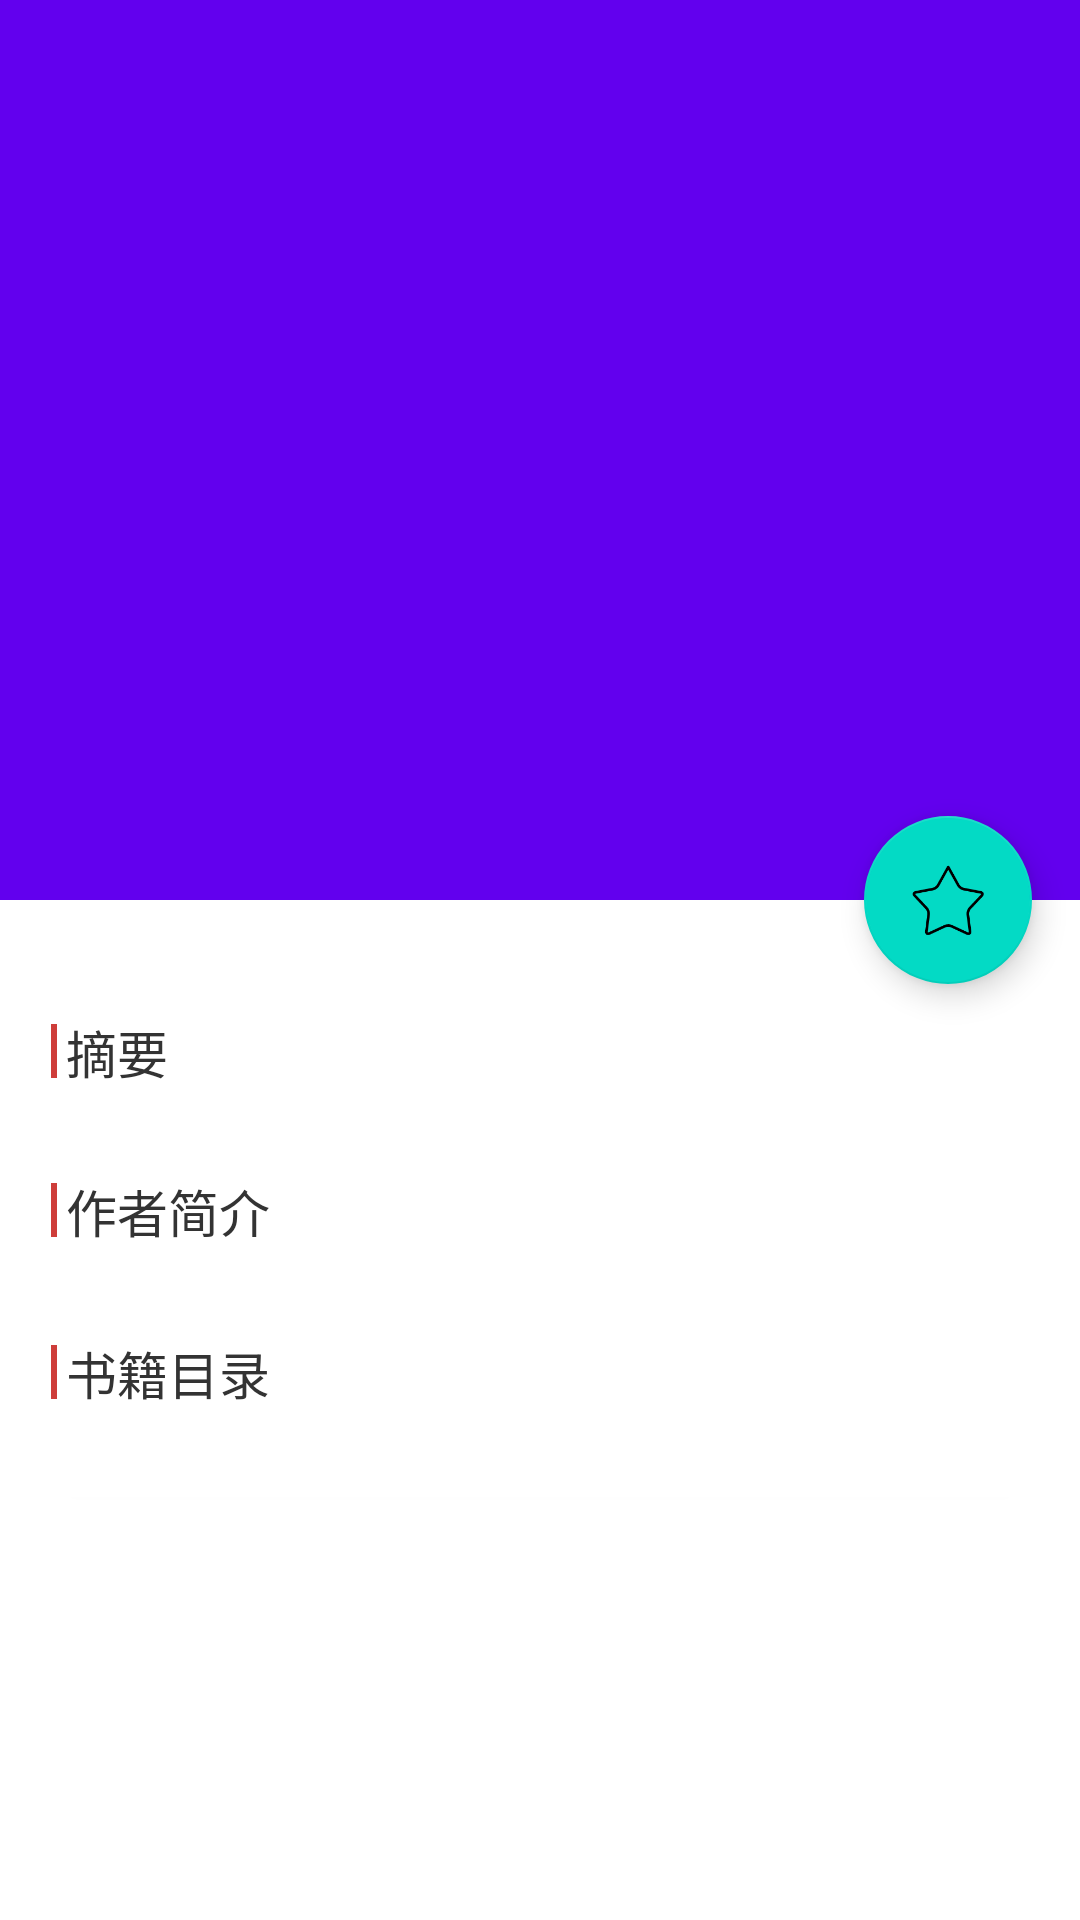

Named icons in this screenshot (1080*1920) and their centers, (x=x, y=y):
shoucan: (x=948, y=900)
